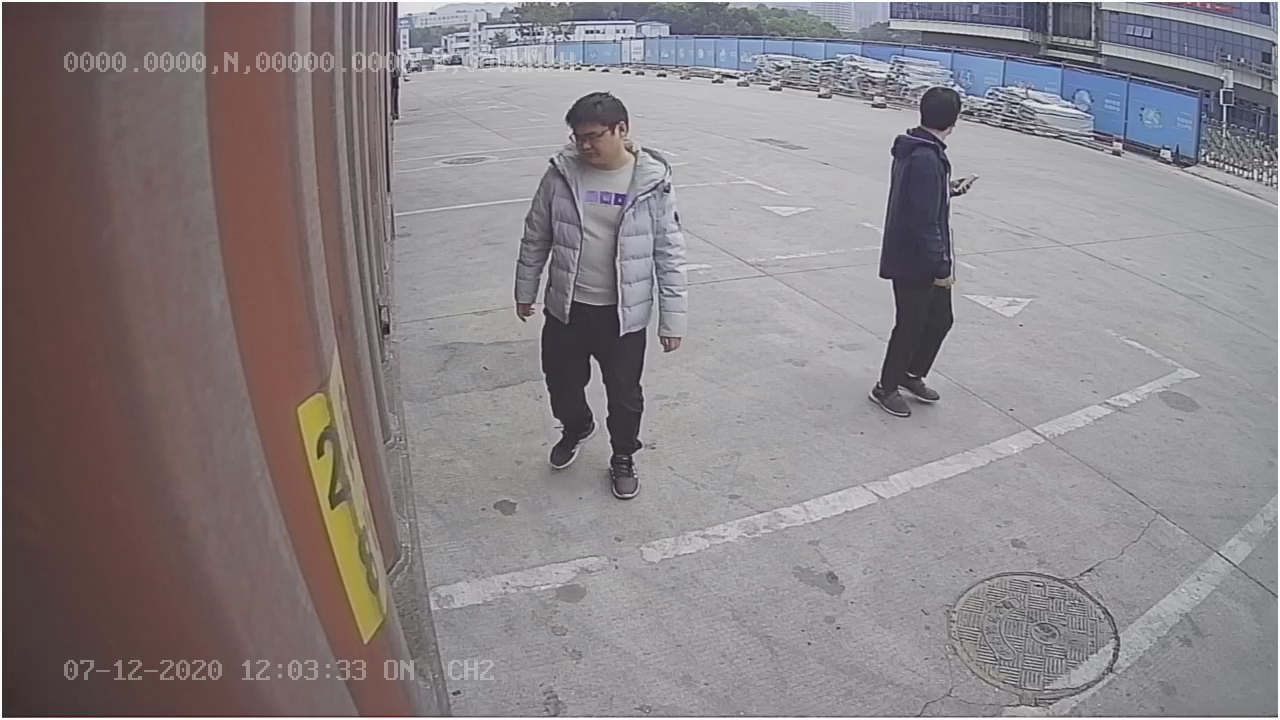person: (508, 88, 691, 498), (859, 75, 974, 417)
